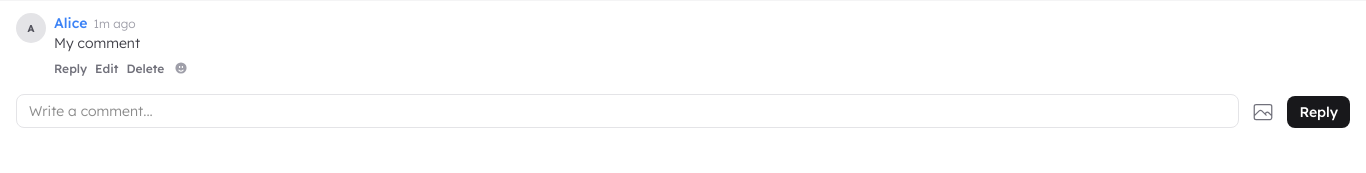
CommentSection › shows delete confirmation when Delete is clicked
Step 1. Click the button with test id "comment-delete-button" → (145, 68), box [126,60,164,76]
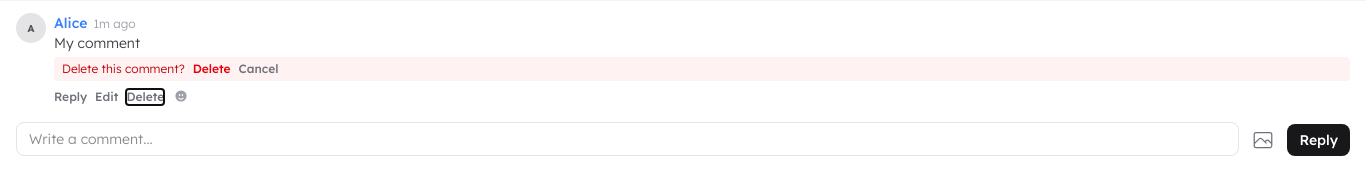
Now the text "Delete this comment?" is shown, box [62,61,185,77]
Now the button with test id "comment-delete-confirm" is shown, box [193,61,231,77]
